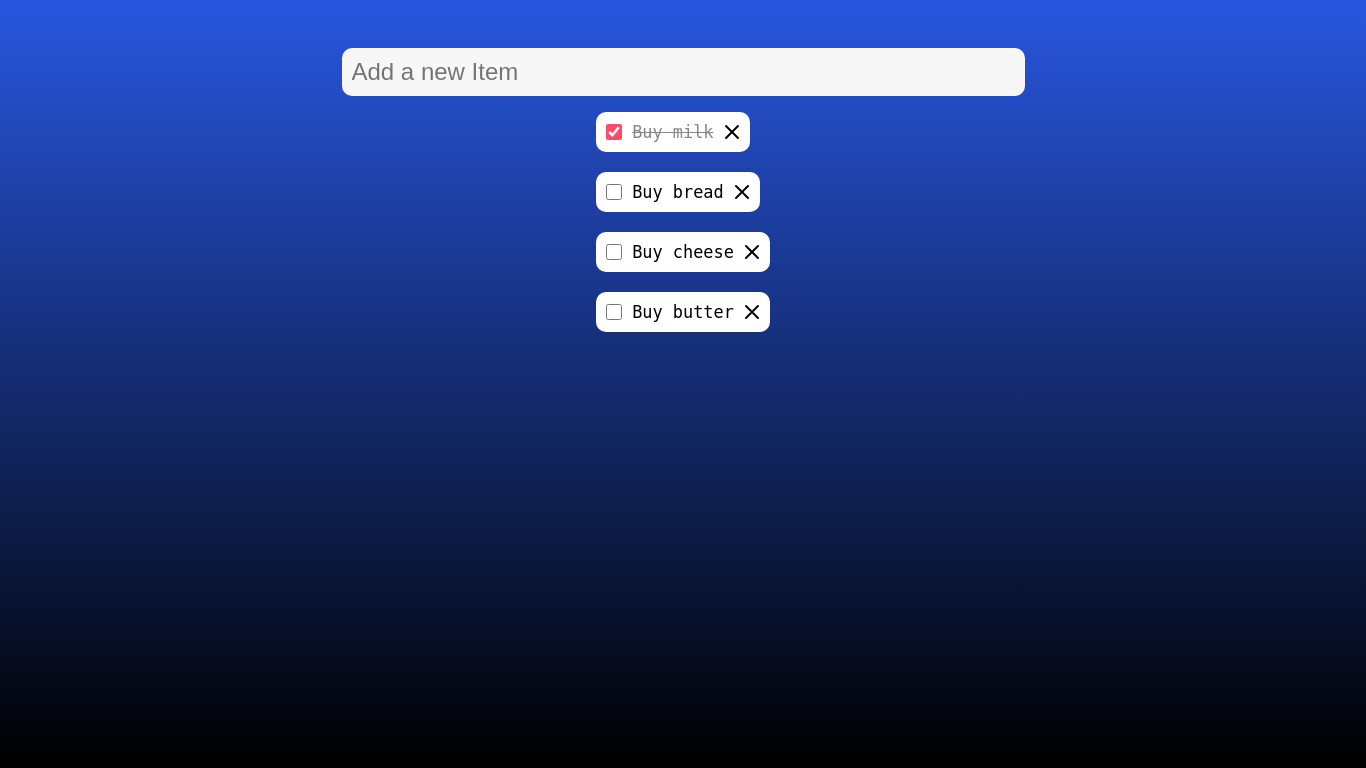
Test: TodoApp › adds a new item and places it first
Type "New item" into the field with test id "add-item-input" at [683, 72], box [342, 48, 1024, 96]
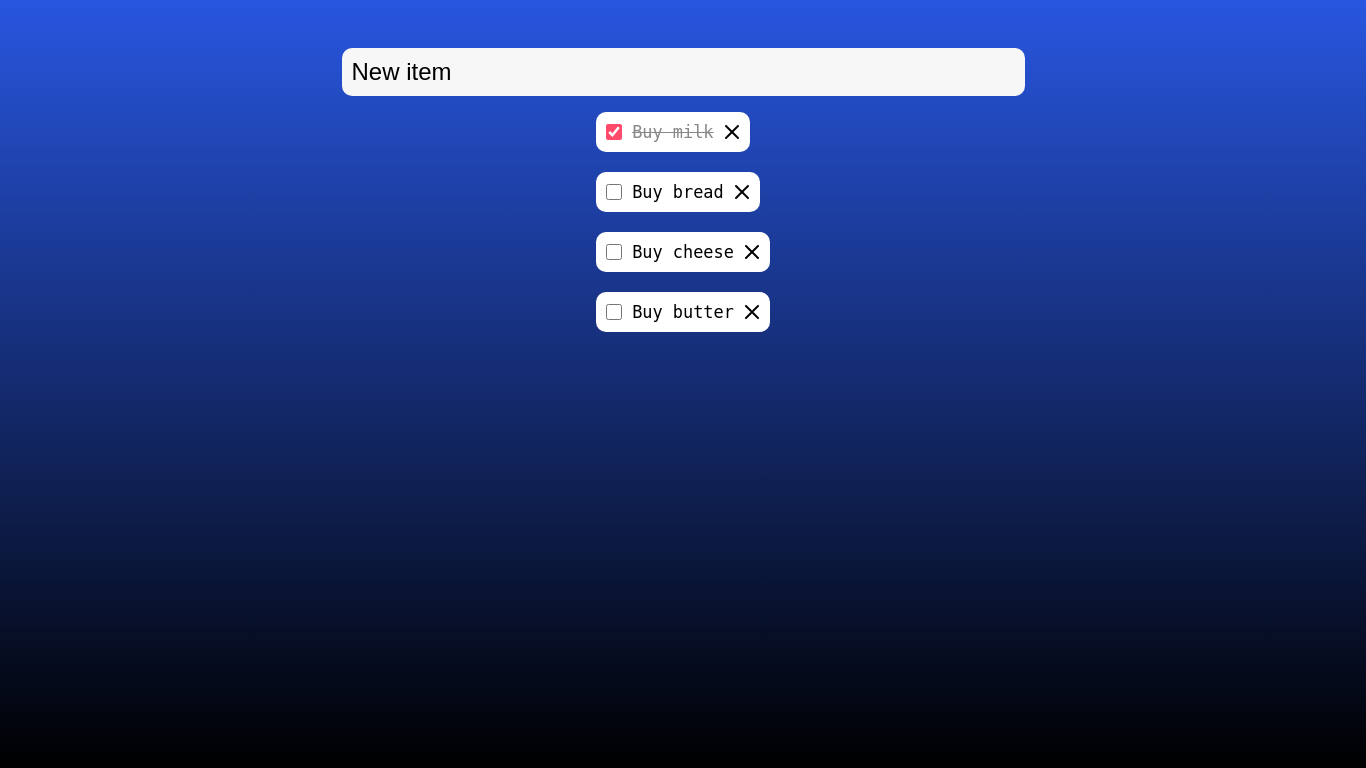
Press Enter in the field with test id "add-item-input", box [342, 48, 1024, 96]
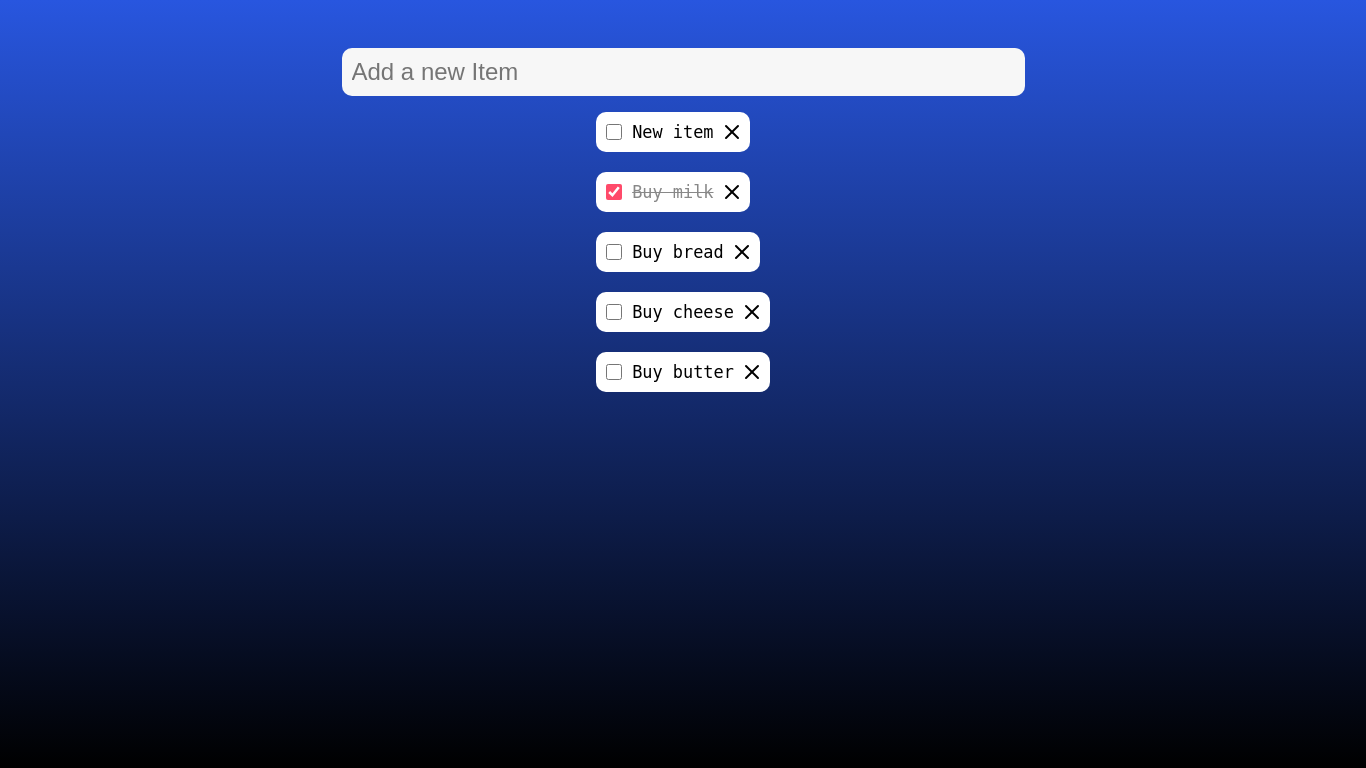
Result: the 1st text box holds "New item" at [632, 122, 714, 142]
